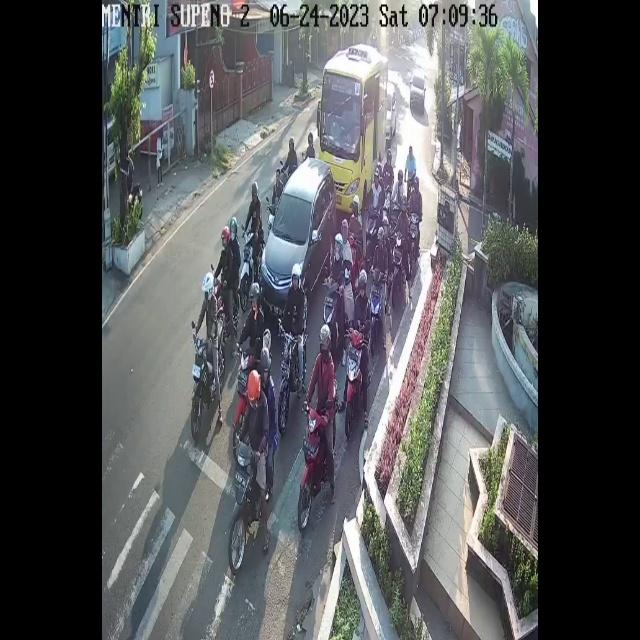bus: (227, 440, 274, 576), (298, 380, 337, 528), (190, 310, 226, 440), (235, 328, 272, 408), (343, 324, 368, 438), (280, 328, 306, 429), (320, 274, 348, 349), (242, 227, 263, 307), (370, 268, 386, 354), (215, 277, 239, 328), (391, 233, 406, 310), (364, 204, 379, 263), (407, 211, 418, 269), (349, 238, 364, 273), (390, 200, 402, 231), (266, 202, 277, 232)
car: (318, 43, 386, 213)
motorcycle: (260, 158, 333, 320), (384, 81, 397, 148), (410, 70, 426, 115)
